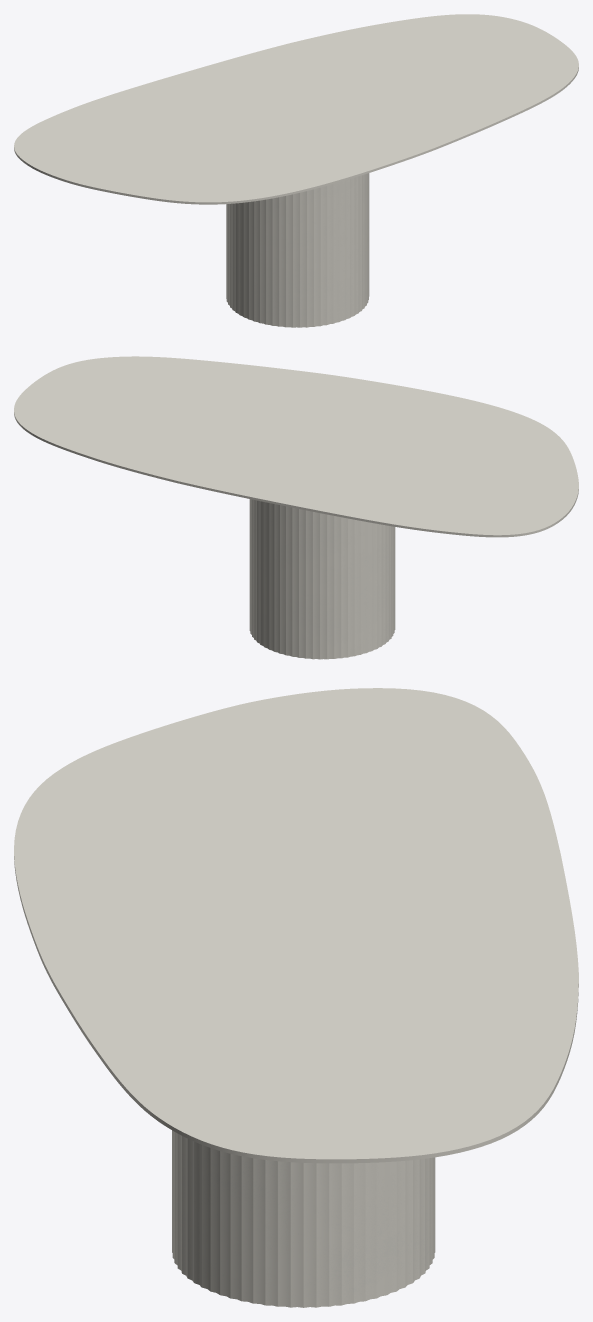
The model's file is pale_leaf2_facet_ripple.glb.
The picture shows the model from 3 angles, top to bottom: view 1: azimuth 30°, elevation 25°; view 2: azimuth 150°, elevation 25°; view 3: azimuth 270°, elevation 25°; orthographic projection. The views are drawn at different scales.
Parts seen in each view (by area): view 1: facet_leaf2, ripple; view 2: facet_leaf2, ripple; view 3: facet_leaf2, ripple.
Part boxes in pixels (x1=…): facet_leaf2: x1=14, y1=14, x2=578, y2=204; ripple: x1=226, y1=173, x2=369, y2=327; facet_leaf2: x1=14, y1=356, x2=578, y2=537; ripple: x1=249, y1=499, x2=395, y2=659; facet_leaf2: x1=14, y1=688, x2=578, y2=1163; ripple: x1=172, y1=1130, x2=435, y2=1307.
Bounding box in the file's own units: 7.5 × 2.5 × 3.8.
1 material, 1 textured.
